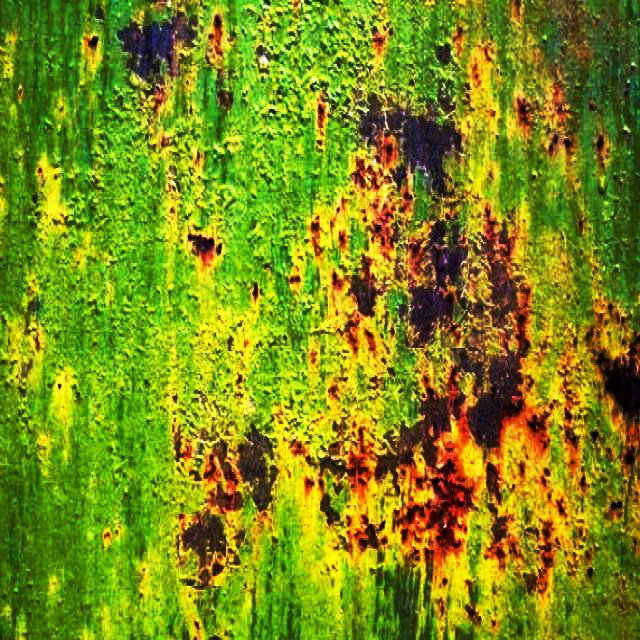Corrosion: (361, 111, 461, 192), (377, 390, 451, 478), (117, 13, 193, 78), (469, 369, 519, 446), (236, 427, 276, 512), (181, 514, 226, 580), (469, 218, 512, 284), (351, 136, 396, 192), (429, 222, 467, 288), (427, 494, 471, 548), (410, 288, 452, 344), (432, 458, 472, 516), (370, 189, 394, 258), (489, 260, 514, 325), (215, 451, 241, 512), (604, 365, 640, 404), (186, 233, 220, 266), (489, 344, 517, 384), (525, 408, 550, 452), (350, 277, 377, 316), (448, 368, 465, 420), (490, 507, 508, 547), (542, 521, 555, 573), (315, 97, 329, 144), (437, 80, 456, 114), (517, 313, 530, 360), (320, 495, 339, 526), (516, 95, 530, 126), (486, 464, 501, 492), (435, 42, 453, 64), (594, 132, 610, 154), (524, 576, 539, 594), (548, 133, 560, 154), (611, 502, 623, 516), (564, 136, 574, 150), (580, 472, 588, 488), (586, 568, 595, 580), (591, 431, 599, 442)
